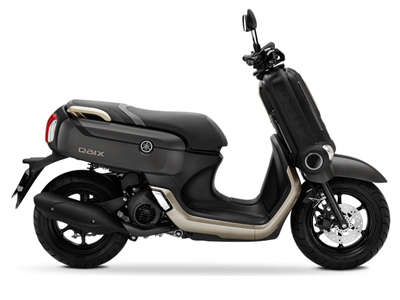motorcycle: (23, 39, 391, 269)
